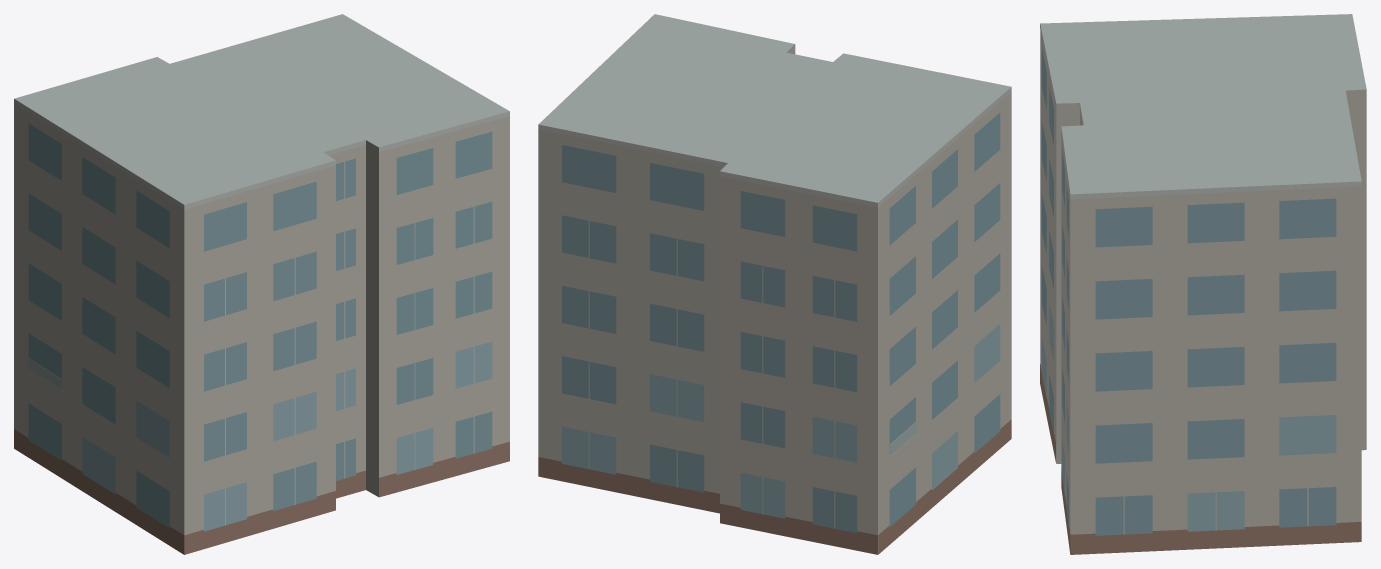
File: survey-upis-32964576.glb
3 views of the same model, side by side, from view 1: azimuth 30°, elevation 25°; view 2: azimuth 150°, elevation 25°; view 3: azimuth 270°, elevation 25° (orthographic). The views are drawn at different scales.
Parts seen in each view (by area): view 1: survey-upis-32964576.tmp; view 2: survey-upis-32964576.tmp; view 3: survey-upis-32964576.tmp.
Boxes of the visible parts, x1,y1,x2,y2 form: survey-upis-32964576.tmp: (14,14,509,554); survey-upis-32964576.tmp: (538,14,1011,554); survey-upis-32964576.tmp: (1040,14,1366,554).
Size of the model in its own units: 19.01 by 17.7 by 14.54.
